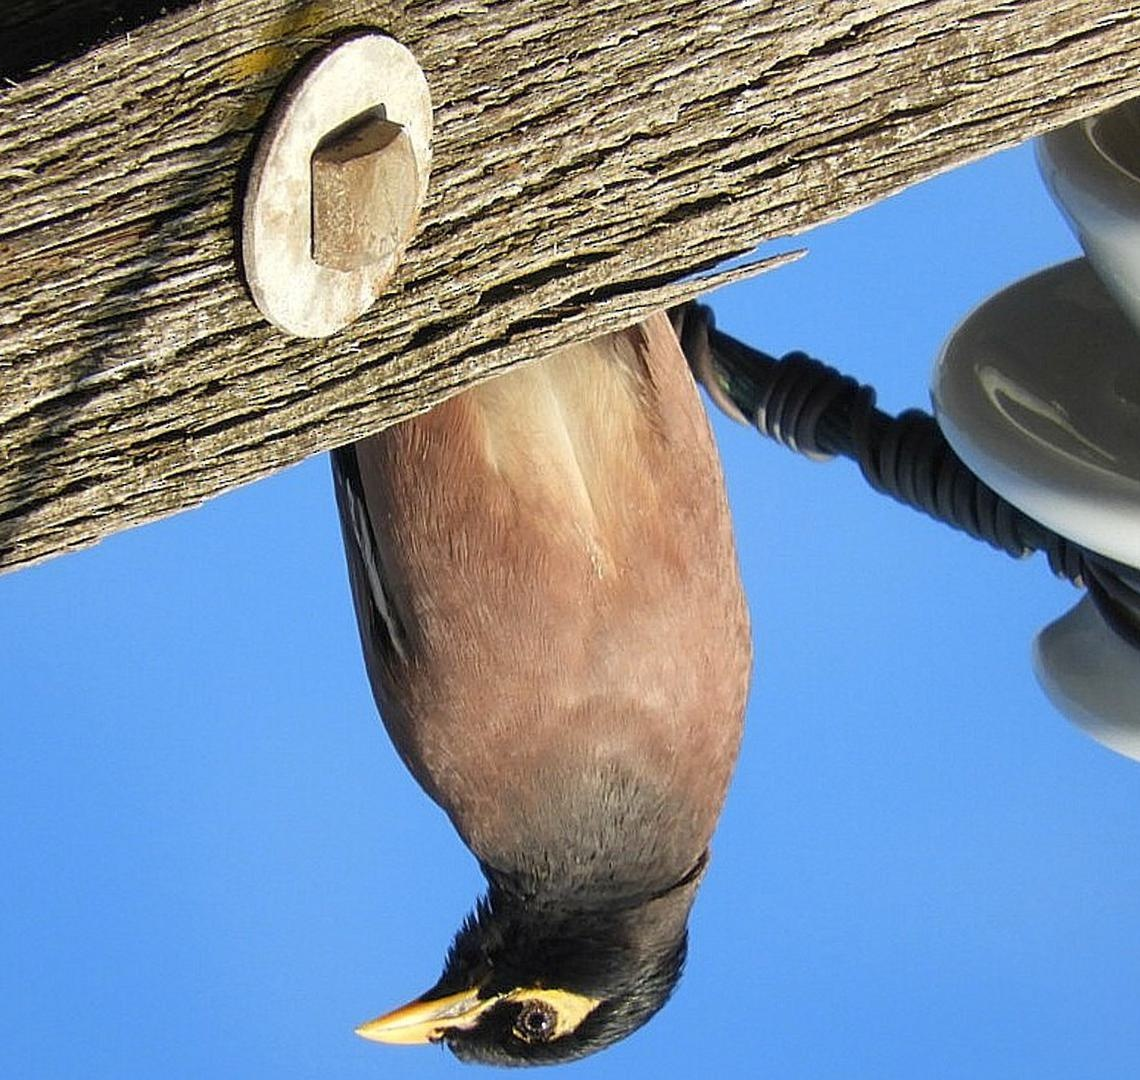myna: (316, 285, 784, 1066)
